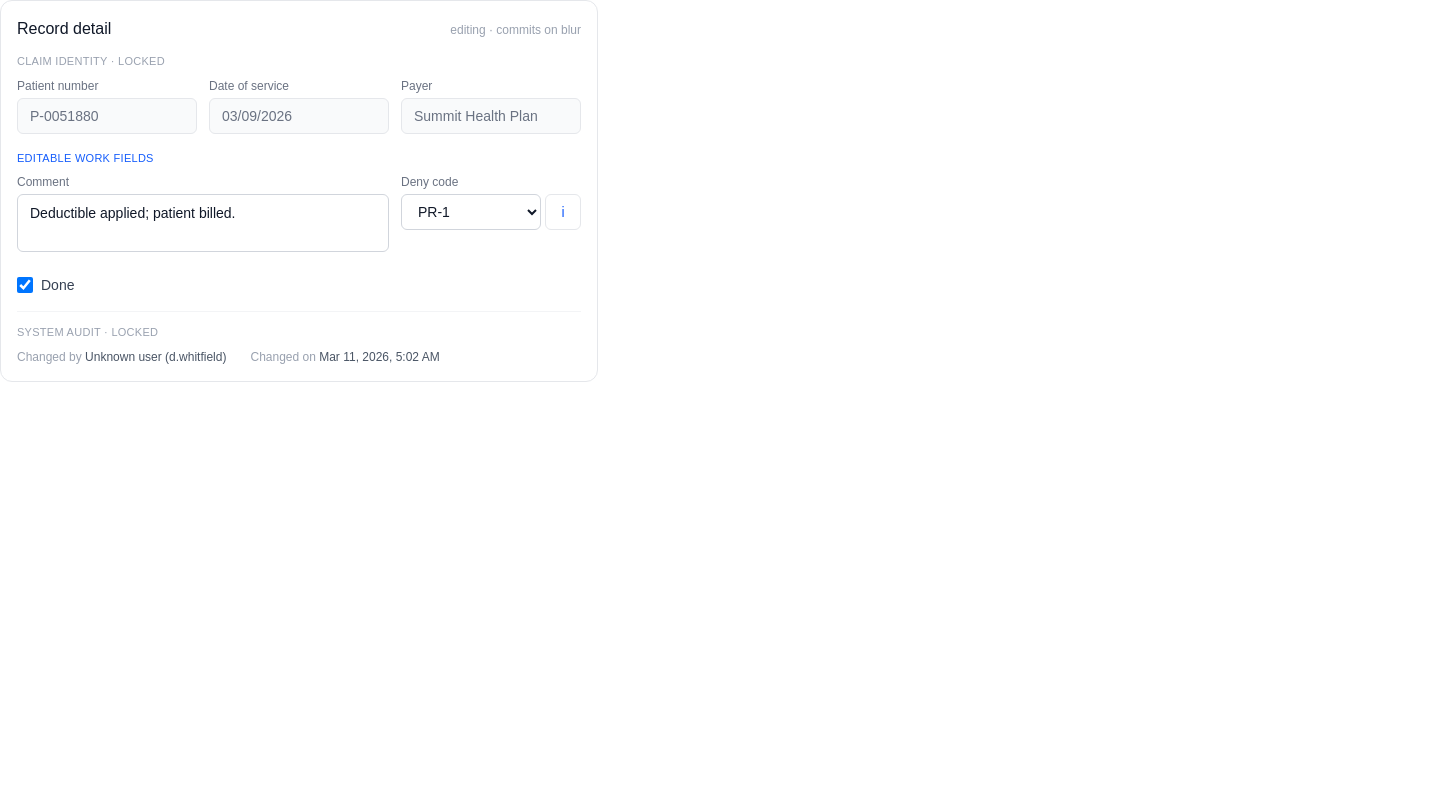
it: deny-code modal triggers › opens the selected record's definition from the detail panel
What coordinates should you click on to do the following:
click the button named "Deny code definition"
I would click on:
 (563, 212)
Its box is [545,194,581,230].
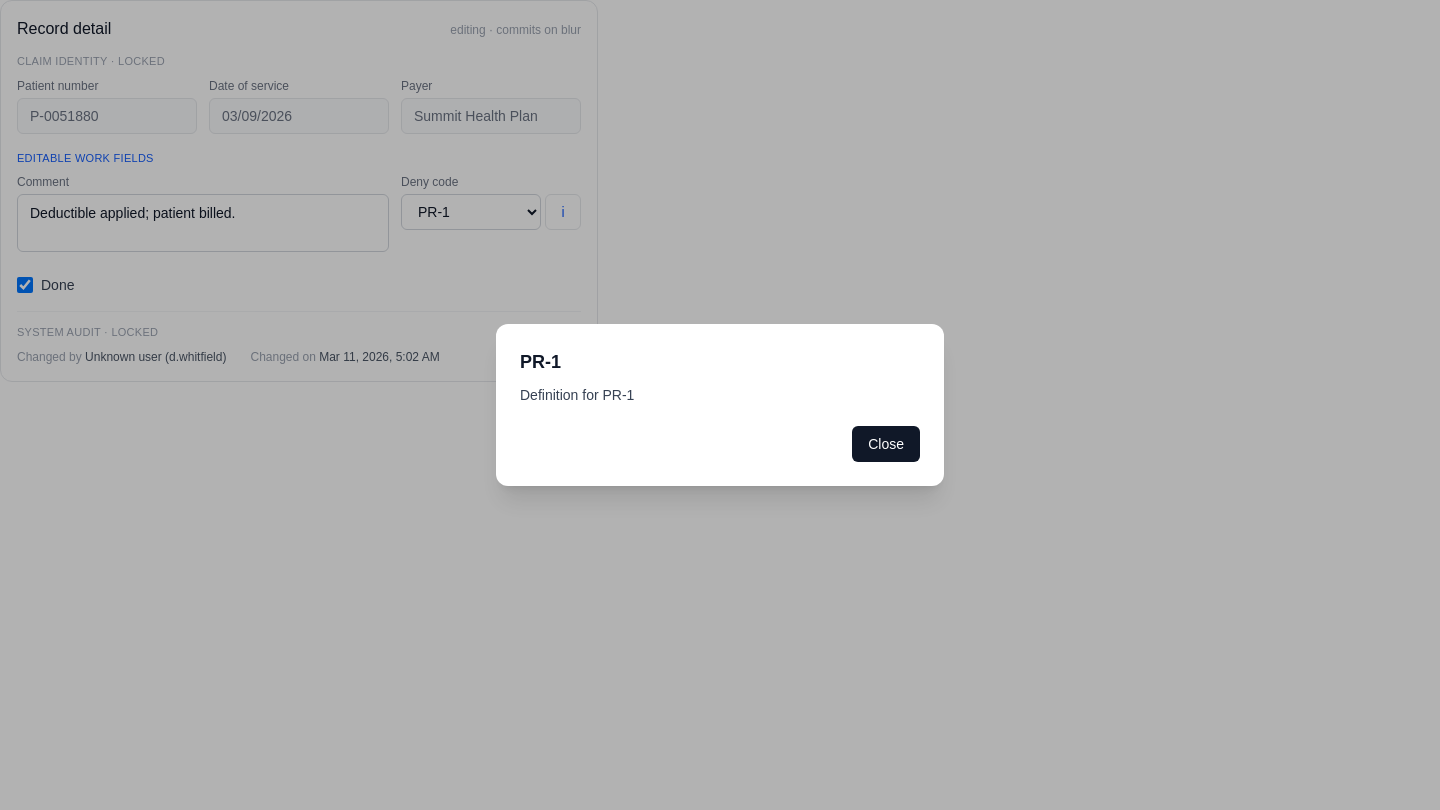
Expected: the heading "PR-1" is shown, [520,352,561,372]
